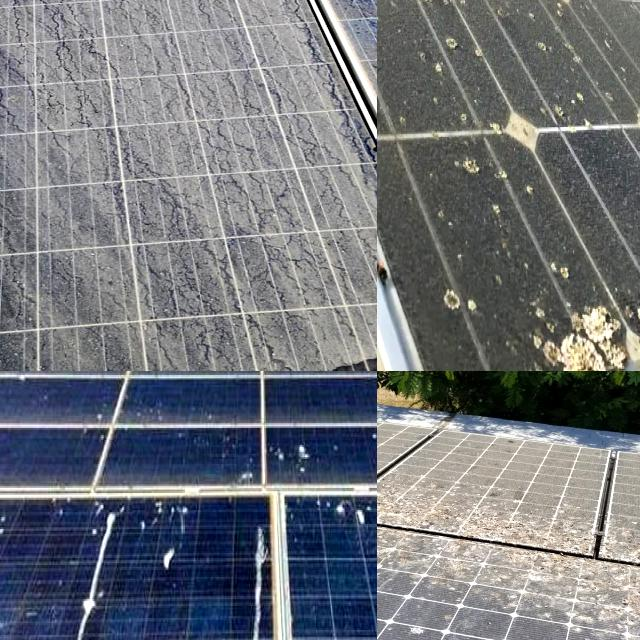bird: (152, 493, 201, 581), (377, 486, 481, 524), (421, 543, 497, 591), (86, 502, 142, 566), (536, 566, 611, 612), (494, 512, 594, 544), (248, 522, 275, 640), (270, 434, 323, 486), (377, 532, 426, 580), (57, 579, 95, 640), (377, 454, 426, 501), (328, 497, 377, 540), (386, 610, 445, 640), (0, 553, 20, 618), (377, 449, 410, 486), (610, 520, 640, 560), (0, 513, 28, 547), (169, 371, 223, 386), (377, 591, 397, 616), (0, 371, 16, 379)
dust: (0, 0, 289, 371), (418, 148, 568, 371), (567, 39, 640, 258), (325, 182, 377, 371), (377, 0, 455, 123), (70, 0, 319, 38), (493, 0, 620, 61), (0, 198, 29, 371), (296, 0, 377, 58), (0, 0, 101, 41)
